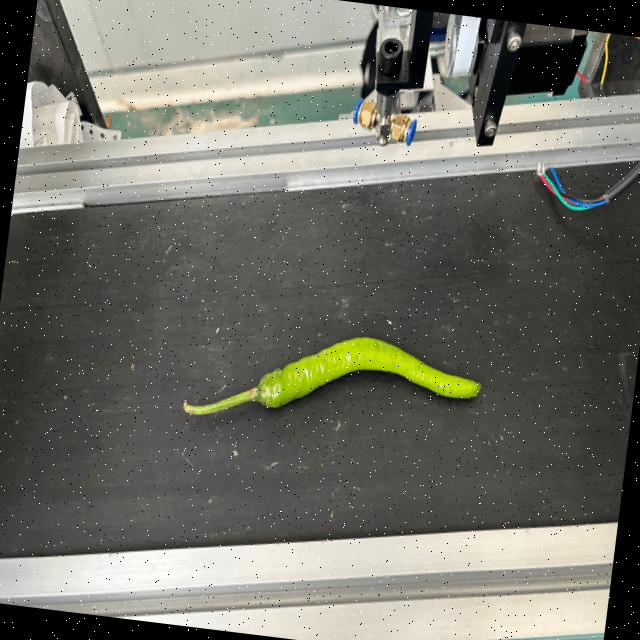chili: (256, 334, 484, 411)
